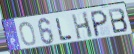6: (37, 17, 55, 46)
B: (106, 7, 129, 35)
H: (70, 11, 94, 41)
L: (54, 17, 74, 42)
O: (18, 20, 38, 47)
P: (90, 9, 109, 38)
